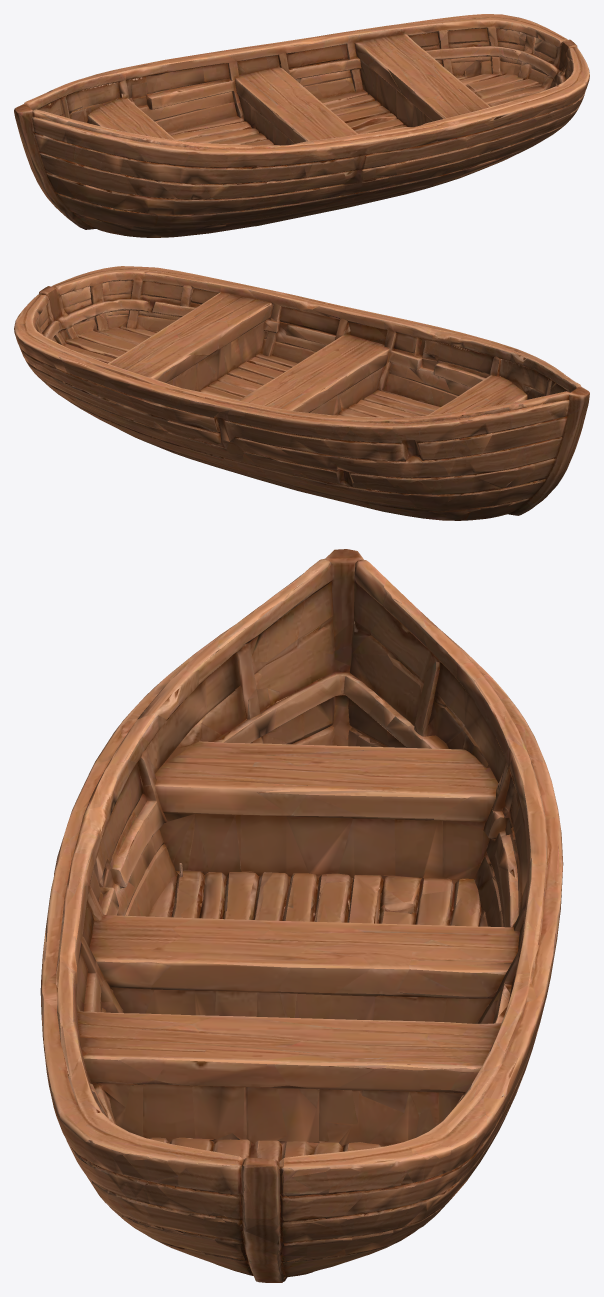
Rendered from upm_mu5vzm0x1xb.glb.
3 views of the same model, one above another, from view 1: azimuth 30°, elevation 25°; view 2: azimuth 150°, elevation 25°; view 3: azimuth 270°, elevation 25° (orthographic). The views are drawn at different scales.
Size of the model in its own units: 1.9 by 0.4457 by 0.8007.
1 material, 1 textured.
